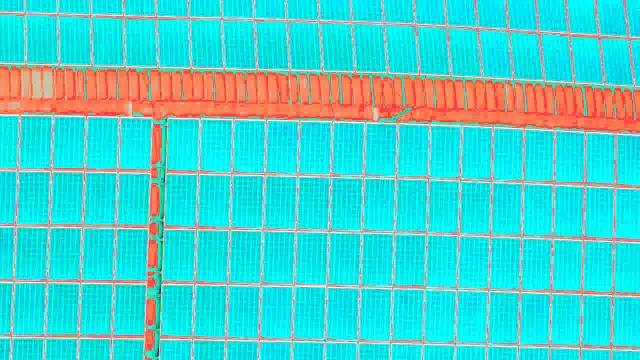dirty: (21, 14, 59, 67), (58, 10, 96, 63), (88, 14, 126, 67), (121, 16, 159, 69), (152, 17, 190, 70), (187, 16, 225, 69), (217, 17, 255, 70), (256, 19, 294, 72), (288, 19, 326, 72), (317, 22, 355, 75), (347, 21, 385, 74), (381, 24, 419, 77), (421, 27, 459, 80), (450, 25, 488, 78), (479, 27, 517, 80), (511, 28, 549, 81), (539, 32, 577, 85), (564, 34, 602, 87), (593, 33, 631, 86), (431, 121, 461, 177), (398, 122, 428, 178), (367, 119, 397, 175), (334, 119, 364, 175), (299, 120, 329, 176), (265, 119, 295, 175), (234, 117, 264, 173), (197, 119, 227, 175), (168, 115, 198, 171), (118, 115, 148, 171), (86, 112, 116, 168), (54, 116, 84, 172), (19, 114, 49, 170), (17, 170, 47, 226), (51, 170, 81, 226), (86, 169, 116, 225), (120, 173, 150, 229), (168, 174, 198, 230), (197, 172, 227, 228), (233, 175, 263, 231), (266, 174, 296, 230), (296, 175, 326, 231), (329, 175, 359, 231), (364, 176, 394, 232), (398, 178, 428, 234), (433, 179, 463, 235), (461, 180, 491, 236), (495, 183, 525, 239), (526, 181, 556, 237), (555, 184, 585, 240), (584, 187, 614, 243), (585, 238, 615, 294), (550, 239, 580, 295), (520, 234, 550, 290), (489, 237, 519, 293), (458, 235, 488, 291), (426, 231, 456, 287), (396, 230, 426, 286), (361, 232, 391, 288), (327, 232, 357, 288), (297, 230, 327, 286), (264, 228, 294, 284), (229, 225, 259, 281), (196, 229, 226, 285), (163, 227, 193, 283), (116, 226, 146, 282), (83, 226, 113, 282), (48, 225, 78, 281), (15, 225, 45, 281), (13, 281, 43, 337), (49, 280, 79, 336), (80, 281, 110, 337), (115, 280, 145, 336), (162, 286, 192, 342), (195, 285, 225, 341), (229, 283, 259, 339), (262, 284, 292, 340), (292, 282, 322, 338), (325, 287, 355, 343), (357, 286, 387, 342), (392, 288, 422, 344), (428, 288, 458, 344), (459, 291, 489, 347), (490, 291, 520, 347), (522, 291, 552, 347), (554, 295, 584, 351), (584, 294, 614, 350), (584, 135, 617, 183), (556, 132, 589, 180), (522, 132, 555, 180), (492, 131, 525, 179), (461, 128, 494, 176)
